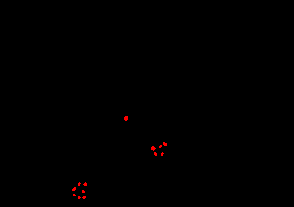Target: (151, 146, 156, 151), (124, 116, 128, 121), (163, 142, 167, 146), (83, 182, 87, 186), (72, 187, 76, 191), (154, 152, 157, 156), (161, 152, 164, 156), (78, 182, 81, 186), (82, 196, 86, 199), (159, 145, 162, 148), (82, 190, 85, 193), (78, 196, 81, 199), (73, 194, 76, 196)
